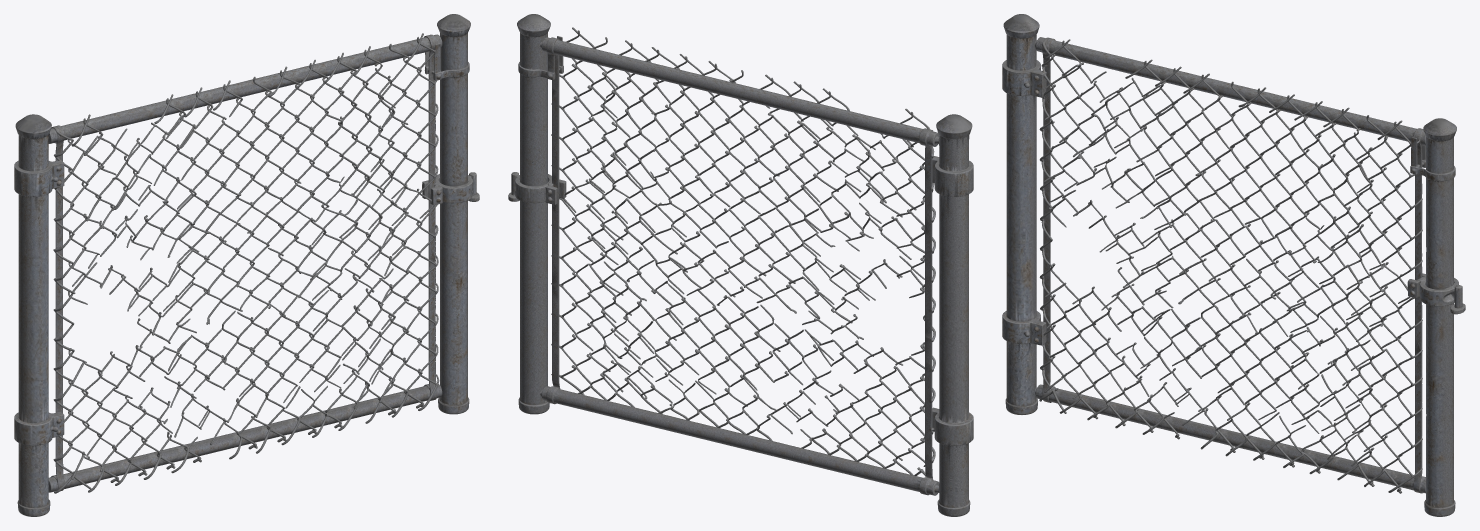
File: fence_gate.glb
3 views of the same model, side by side, from view 1: azimuth 30°, elevation 25°; view 2: azimuth 150°, elevation 25°; view 3: azimuth 330°, elevation 25° (orthographic).
Parts seen in each view (by area): view 1: fence_gate; view 2: fence_gate; view 3: fence_gate.
Boxes of the visible parts, x1,y1,x2,y2 form: fence_gate: (14, 14, 479, 516); fence_gate: (508, 14, 973, 516); fence_gate: (1002, 14, 1465, 516).
Bounding box in the file's own units: 190 × 156 × 14.85.
Materials: 1 (1 with a texture image).
